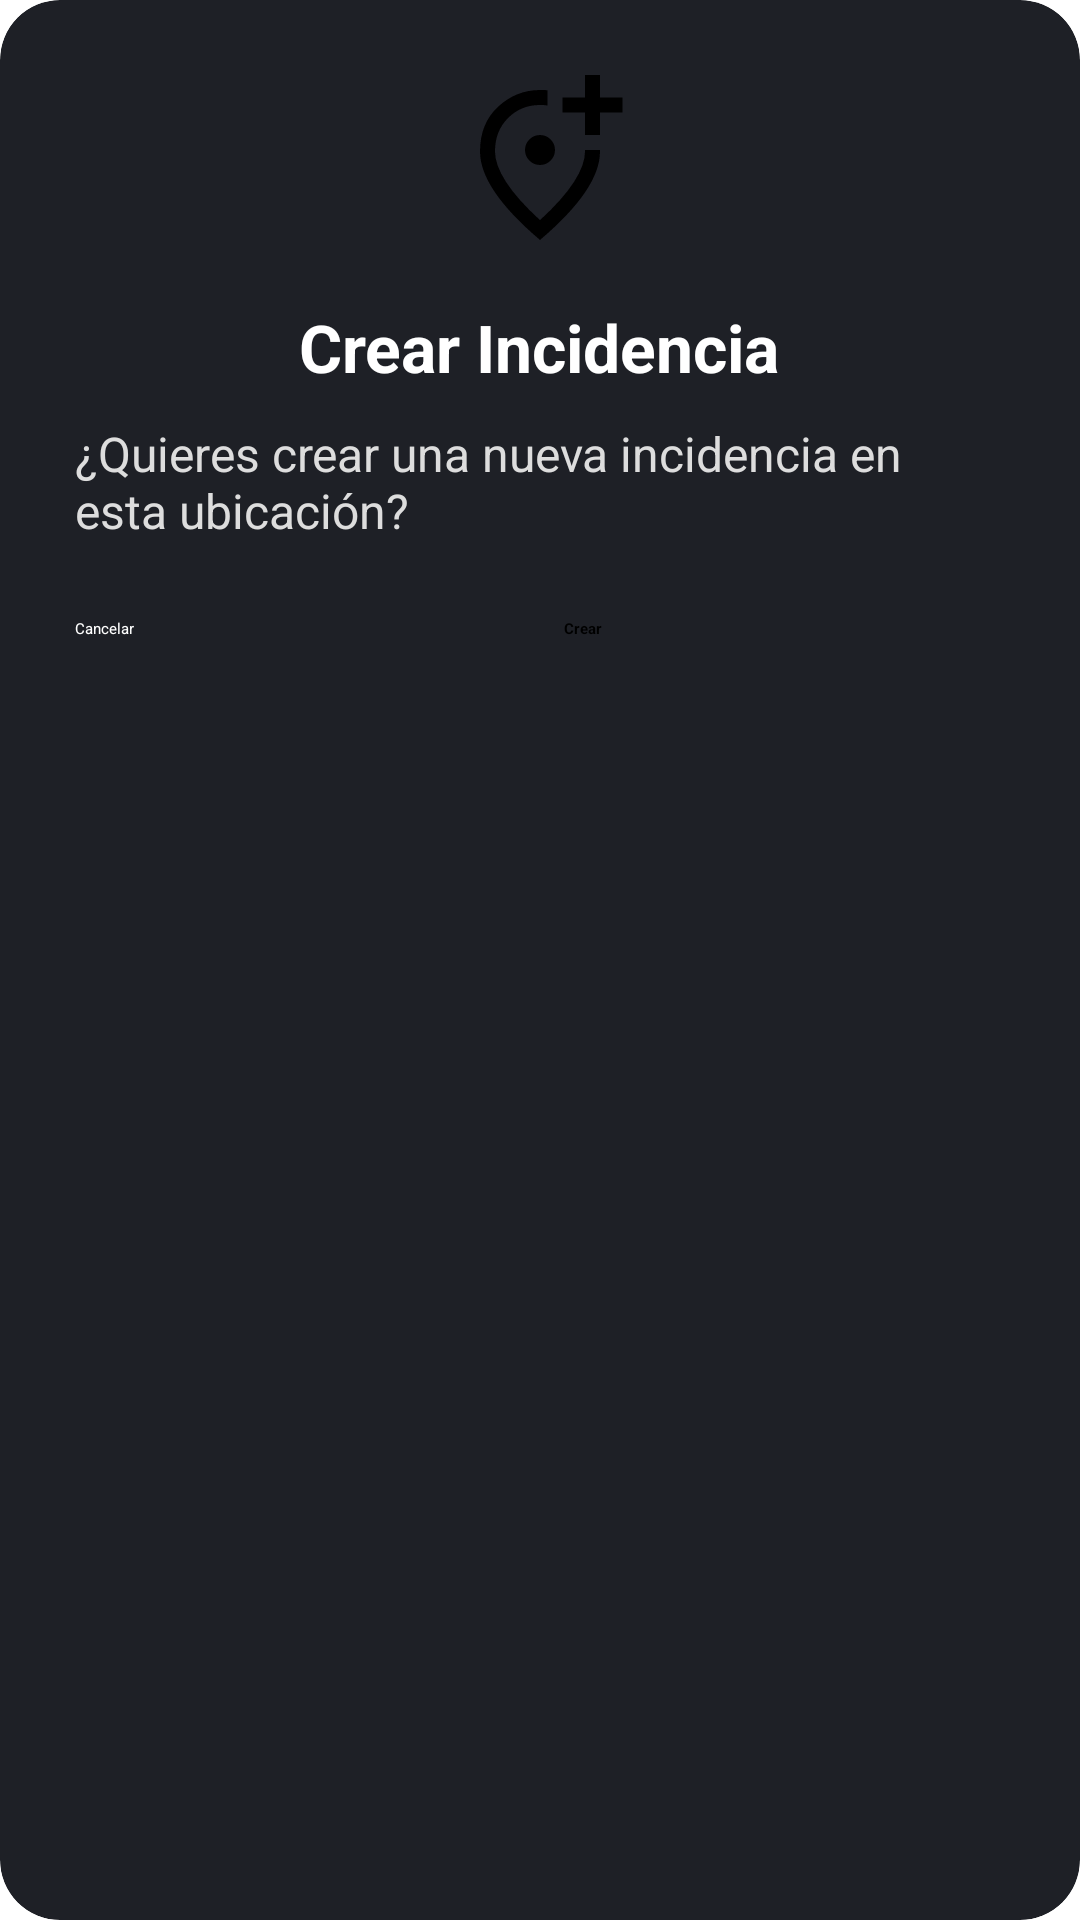

Where icons sit on this 1080 × 1920 app screen, as (x1, y1, x2, y2):
newincidence: (480, 75, 622, 239)
